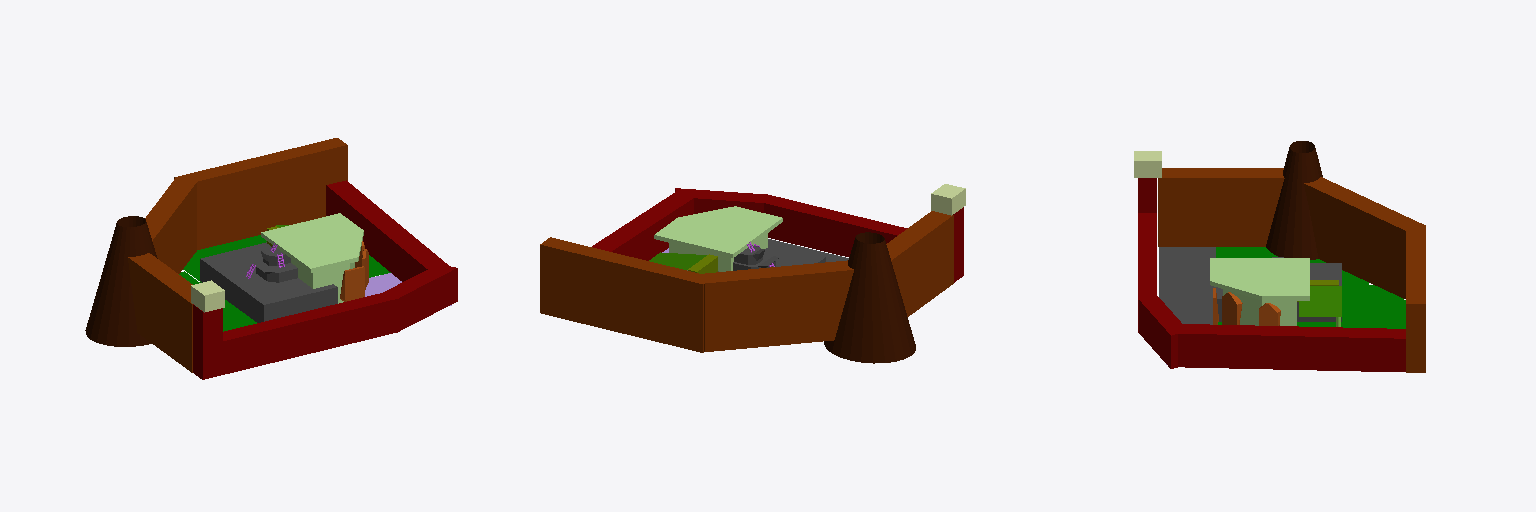
File: Fachada-V2.obj
The picture shows the model from 3 angles: view 1: azimuth 30°, elevation 25°; view 2: azimuth 150°, elevation 25°; view 3: azimuth 270°, elevation 25°; orthographic projection.
Parts seen in each view (by area): view 1: Box008, Box005, Box012, Box003, Cone001, Box006, Box016, Box009, Box010, Box001, Box011, Box002 (+4 smaller); view 2: Box008, Box009, Cone001, Box003, Box005, Box016, Box006, Box010, Box002, Box012, Box001, Box011 (+1 smaller); view 3: Box006, Box003, Box009, Cone001, Box016, Plane001, Box008, Box010, Plane005, Box005, Plane009, Box011 (+6 smaller).
Boxes of the visible parts, x1=… form: Box008: x1=174, y1=138, x2=347, y2=249; Box005: x1=222, y1=293, x2=399, y2=374; Box012: x1=200, y1=242, x2=337, y2=322; Box003: x1=128, y1=253, x2=192, y2=372; Cone001: x1=85, y1=216, x2=157, y2=346; Box006: x1=326, y1=180, x2=453, y2=281; Box016: x1=261, y1=213, x2=363, y2=272; Box009: x1=145, y1=178, x2=196, y2=273; Box010: x1=379, y1=264, x2=457, y2=330; Box001: x1=193, y1=304, x2=222, y2=379; Box011: x1=291, y1=259, x2=354, y2=303; Box002: x1=191, y1=280, x2=224, y2=312; Box008: x1=540, y1=237, x2=711, y2=352; Box009: x1=696, y1=260, x2=853, y2=351; Cone001: x1=824, y1=232, x2=915, y2=363; Box003: x1=886, y1=211, x2=953, y2=316; Box005: x1=757, y1=194, x2=907, y2=256; Box016: x1=654, y1=206, x2=782, y2=257; Box006: x1=592, y1=189, x2=698, y2=260; Box010: x1=675, y1=188, x2=767, y2=213; Box002: x1=931, y1=184, x2=965, y2=215; Box012: x1=718, y1=243, x2=825, y2=271; Box001: x1=953, y1=207, x2=963, y2=282; Box011: x1=669, y1=233, x2=767, y2=271; Box006: x1=1170, y1=324, x2=1405, y2=371; Box003: x1=1158, y1=168, x2=1284, y2=246; Box009: x1=1304, y1=177, x2=1423, y2=298; Cone001: x1=1266, y1=141, x2=1322, y2=259; Box016: x1=1210, y1=258, x2=1309, y2=300; Plane001: x1=1159, y1=247, x2=1215, y2=324; Box008: x1=1406, y1=225, x2=1425, y2=372; Box010: x1=1139, y1=294, x2=1182, y2=368; Plane005: x1=1315, y1=300, x2=1405, y2=328; Box005: x1=1138, y1=213, x2=1156, y2=332; Plane009: x1=1299, y1=286, x2=1341, y2=316; Box011: x1=1223, y1=289, x2=1296, y2=325.
Bounding box in the file's own units: 172 × 57.12 × 141.